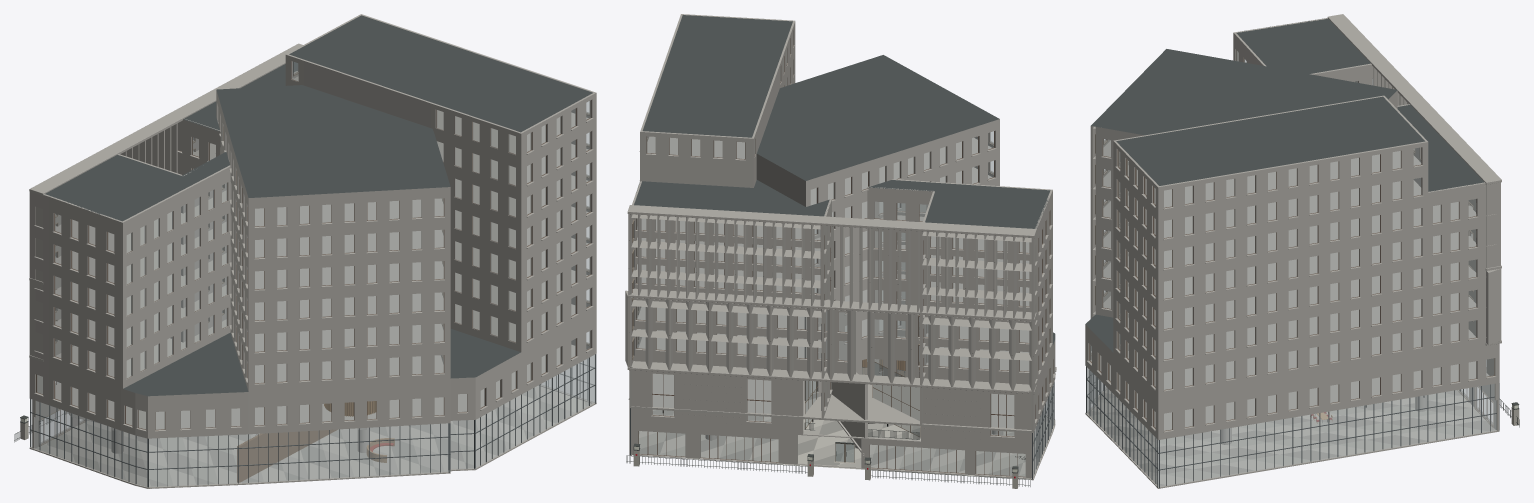
File: mar-exterior-21742893b0e5.glb
3 views of the same model, side by side, from view 1: azimuth 30°, elevation 25°; view 2: azimuth 150°, elevation 25°; view 3: azimuth 270°, elevation 25° (orthographic). The views are drawn at different scales.
Parts seen in each view (by area): view 1: MAR.001; view 2: MAR.001; view 3: MAR.001.
Part boxes in pixels (left/top/right/bottom): MAR.001: left=14, top=14, right=596, bottom=488; MAR.001: left=625, top=14, right=1056, bottom=488; MAR.001: left=1085, top=14, right=1519, bottom=488.
Bounding box in the file's own units: 68.52 × 42.8 × 55.77.
